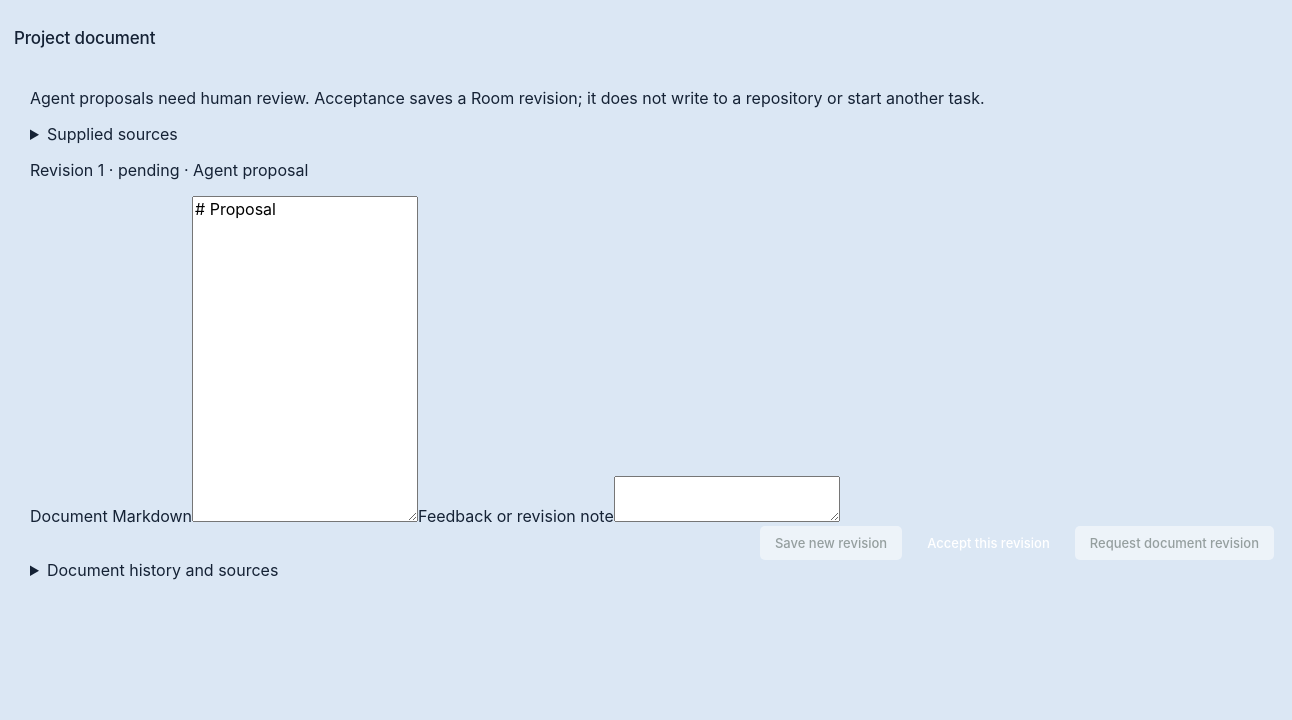
Scenario: unsaved edits block acceptance and stale failures preserve the edit
Replace the text in the text box labelled "Document Markdown" with "# Human revision": (305,359) [192,196,418,522]
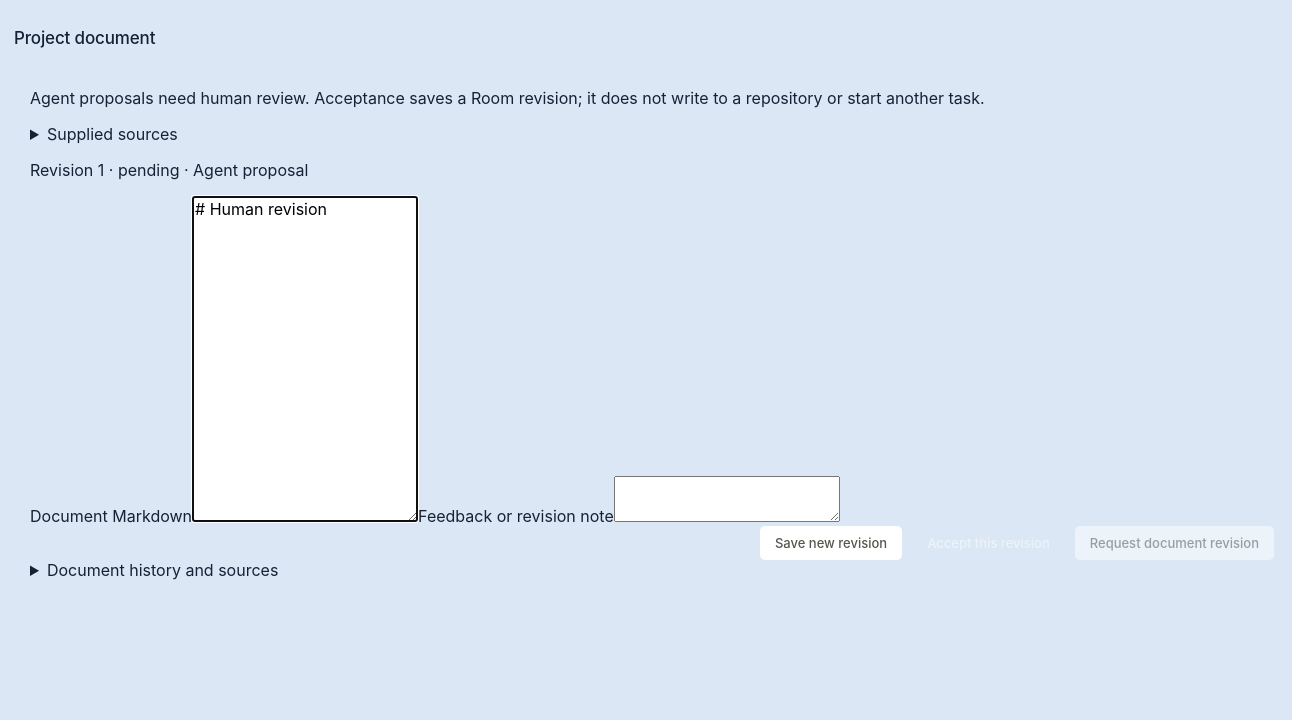
Click the button "Save new revision": (831,543) [760,526,902,560]
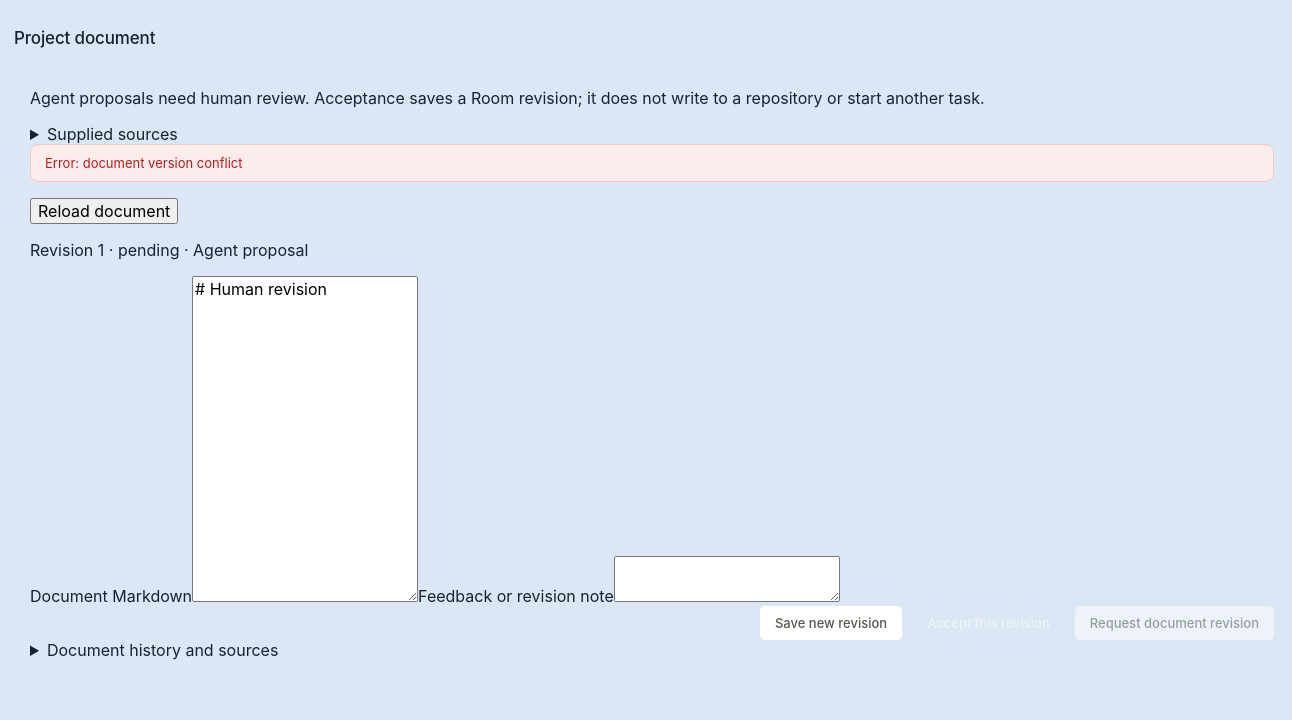
Expected: the message shows "document version conflict", [45,155,242,171]
